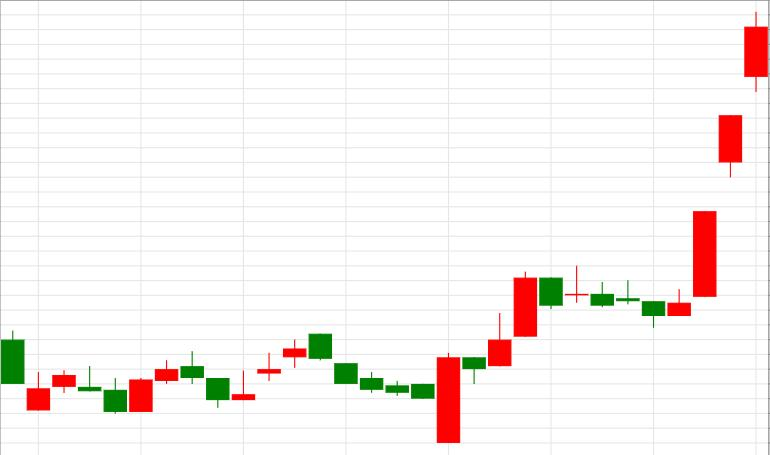bullish_engulfing_rise: (308, 333, 460, 442)
three_white_soldiers_rise: (539, 11, 768, 328)
